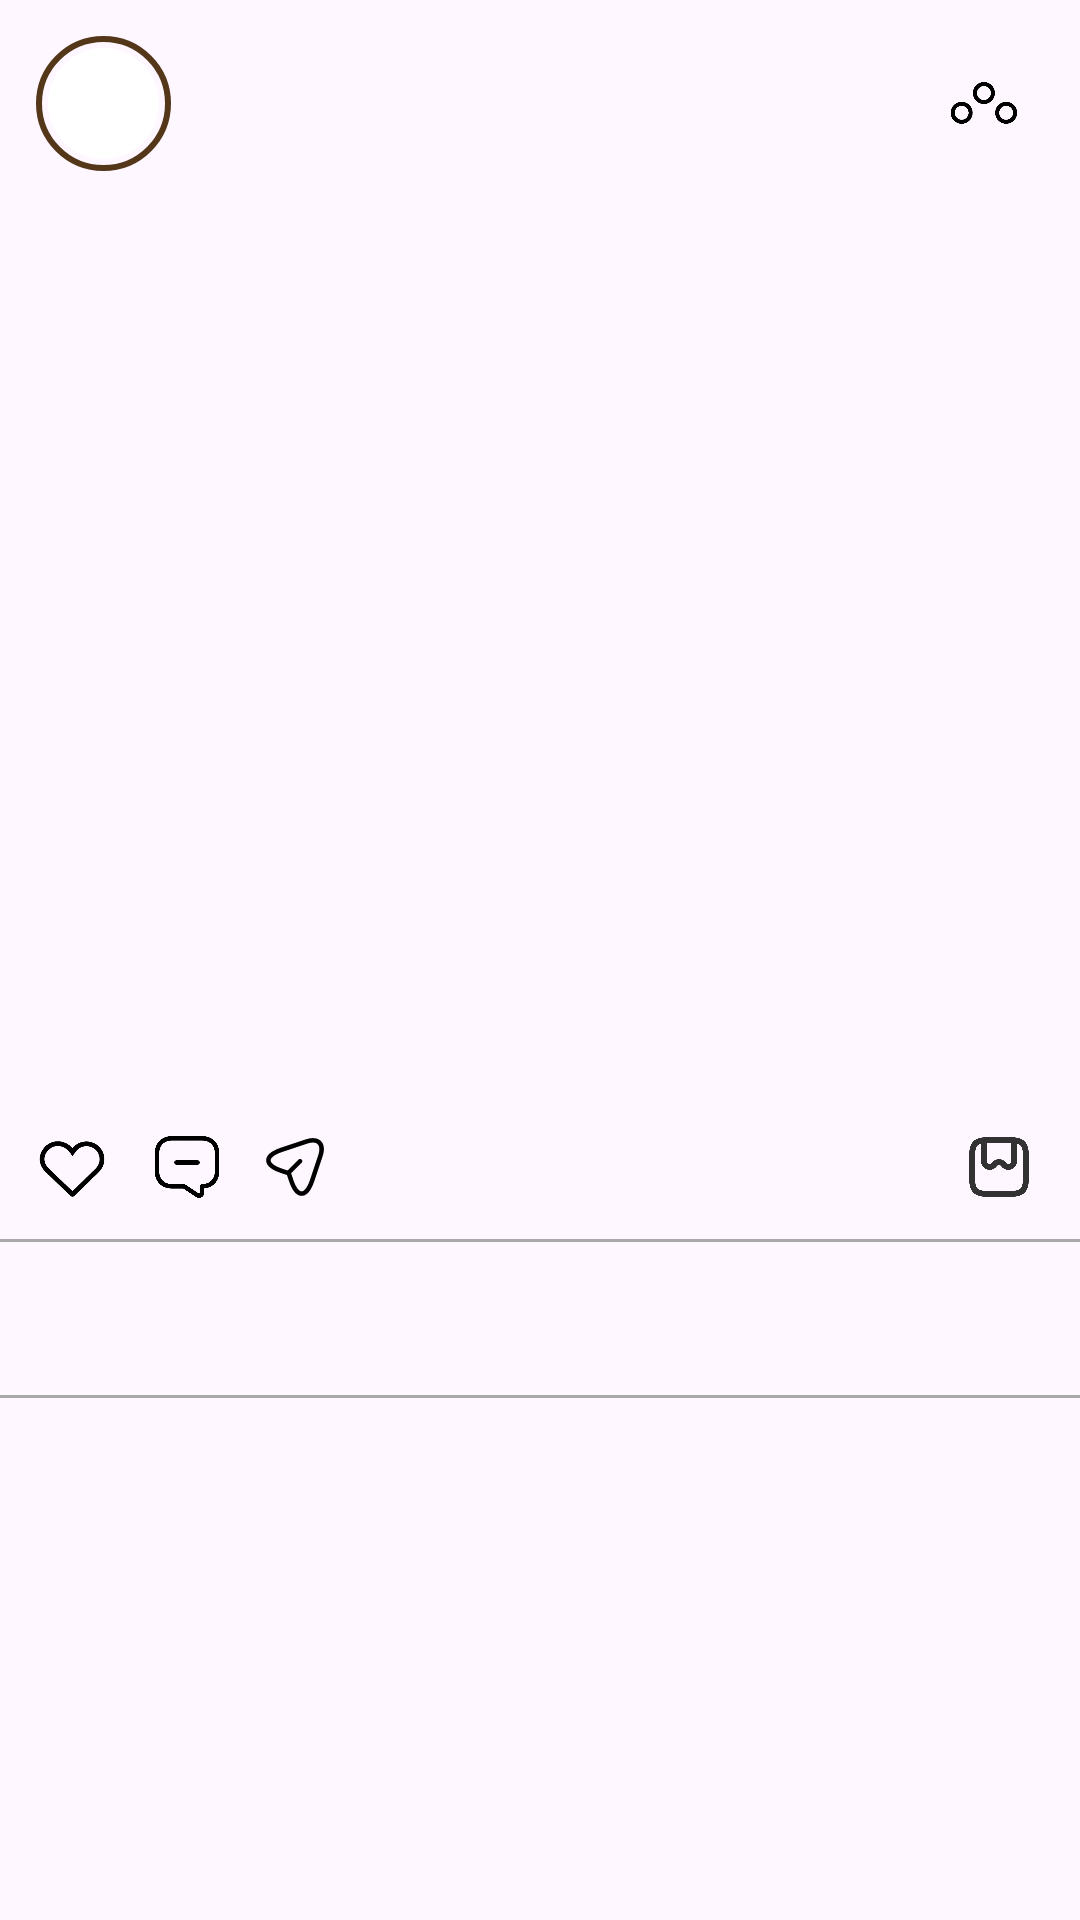

Locate icon controls on the screen. Image size 1080px×1920px, boxes as (x1, y1, x2, y2).
bookmark: (969, 1137, 1029, 1197)
message: (155, 1136, 219, 1198)
send: (266, 1138, 324, 1196)
story border: (36, 36, 171, 171)
three dots: (951, 82, 1017, 124)
